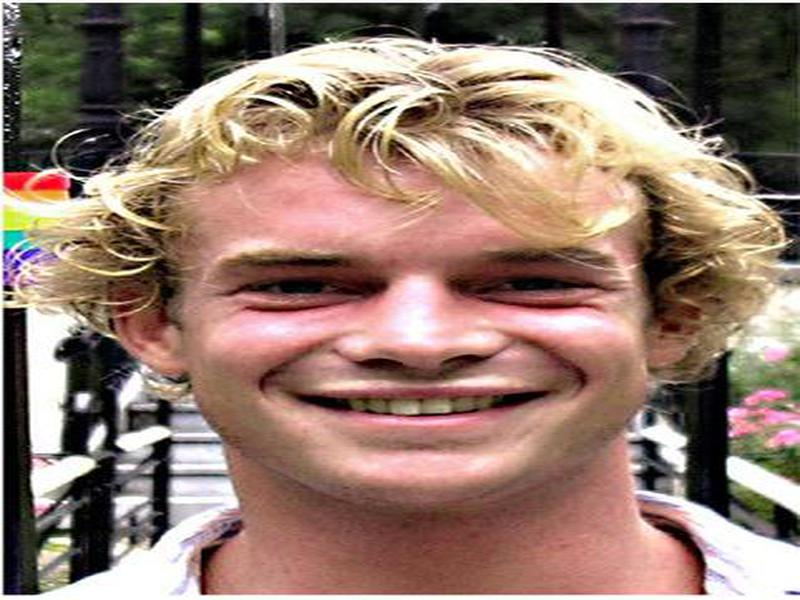without_mask: (193, 146, 642, 516)
